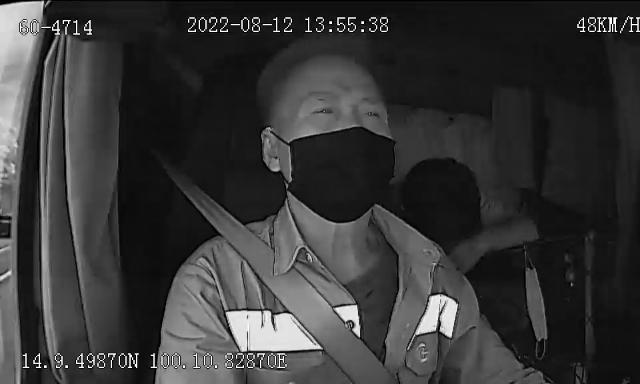SafeDriving: (355, 100, 389, 124), (304, 98, 339, 120)
Seatbelt: (163, 150, 403, 384)
